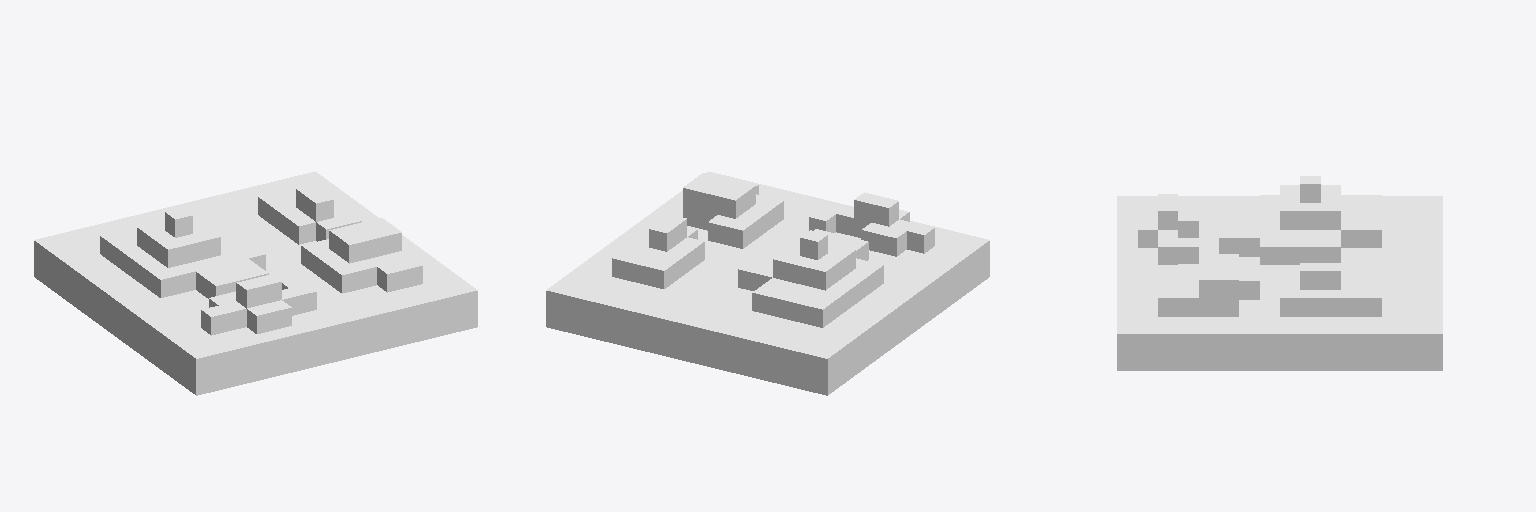
The model's file is iceberg1.obj.
3 views of the same model, side by side, from view 1: azimuth 30°, elevation 25°; view 2: azimuth 150°, elevation 25°; view 3: azimuth 270°, elevation 25° (orthographic).
Parts seen in each view (by area): view 1: object 1; view 2: object 1; view 3: object 1.
Boxes of the visible parts, box(x1,y1,x2,y2) form: object 1: box(34, 171, 477, 395); object 1: box(546, 171, 989, 395); object 1: box(1117, 176, 1442, 370).
Size of the model in its own units: 1.6 by 0.5 by 1.6.